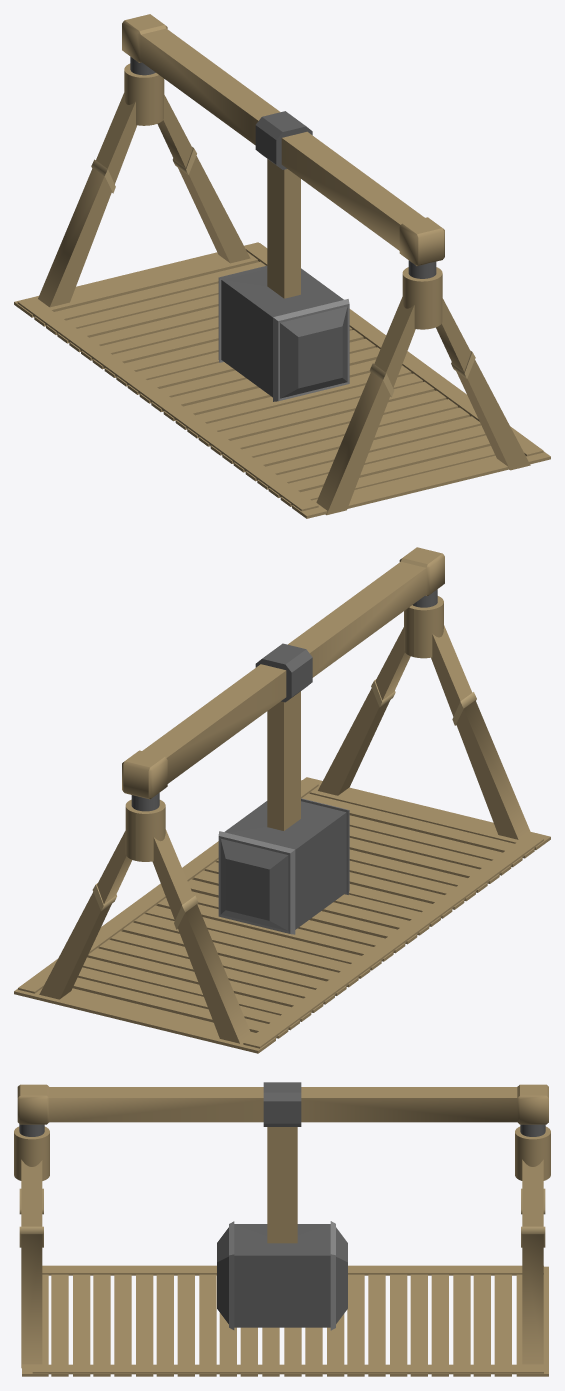
The model's file is bridge.fbx.
3 renders of one model, top to bottom at view 1: azimuth 30°, elevation 25°; view 2: azimuth 150°, elevation 25°; view 3: azimuth 270°, elevation 25°, orthographic. The views are drawn at different scales.
Parts seen in each view (by area): view 1: Cube.016, Cube.029; view 2: Cube.016, Cube.029; view 3: Cube.016, Cube.029.
Boxes of the visible parts, x1,y1,x2,y2 form: Cube.016: (14, 14, 550, 518); Cube.029: (218, 111, 349, 401); Cube.016: (14, 547, 550, 1053); Cube.029: (218, 643, 349, 934); Cube.016: (14, 1084, 550, 1376); Cube.029: (217, 1082, 347, 1330).
Bounding box in the file's own units: 1409 × 1446 × 2979.
